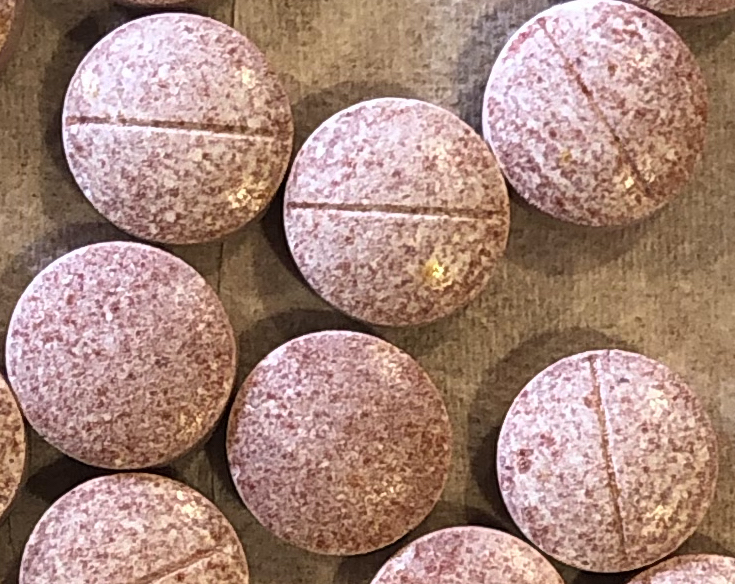tablet: (64, 6, 293, 245), (480, 1, 718, 228), (5, 238, 236, 471), (282, 99, 510, 327), (494, 348, 722, 573), (226, 331, 451, 557), (17, 474, 249, 584), (376, 528, 567, 584)
